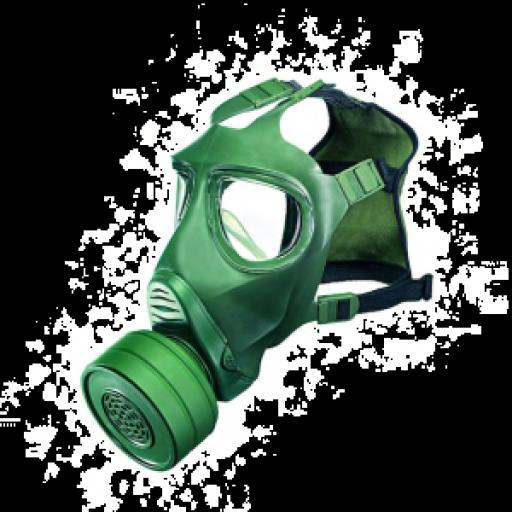mask: (77, 72, 436, 469)
